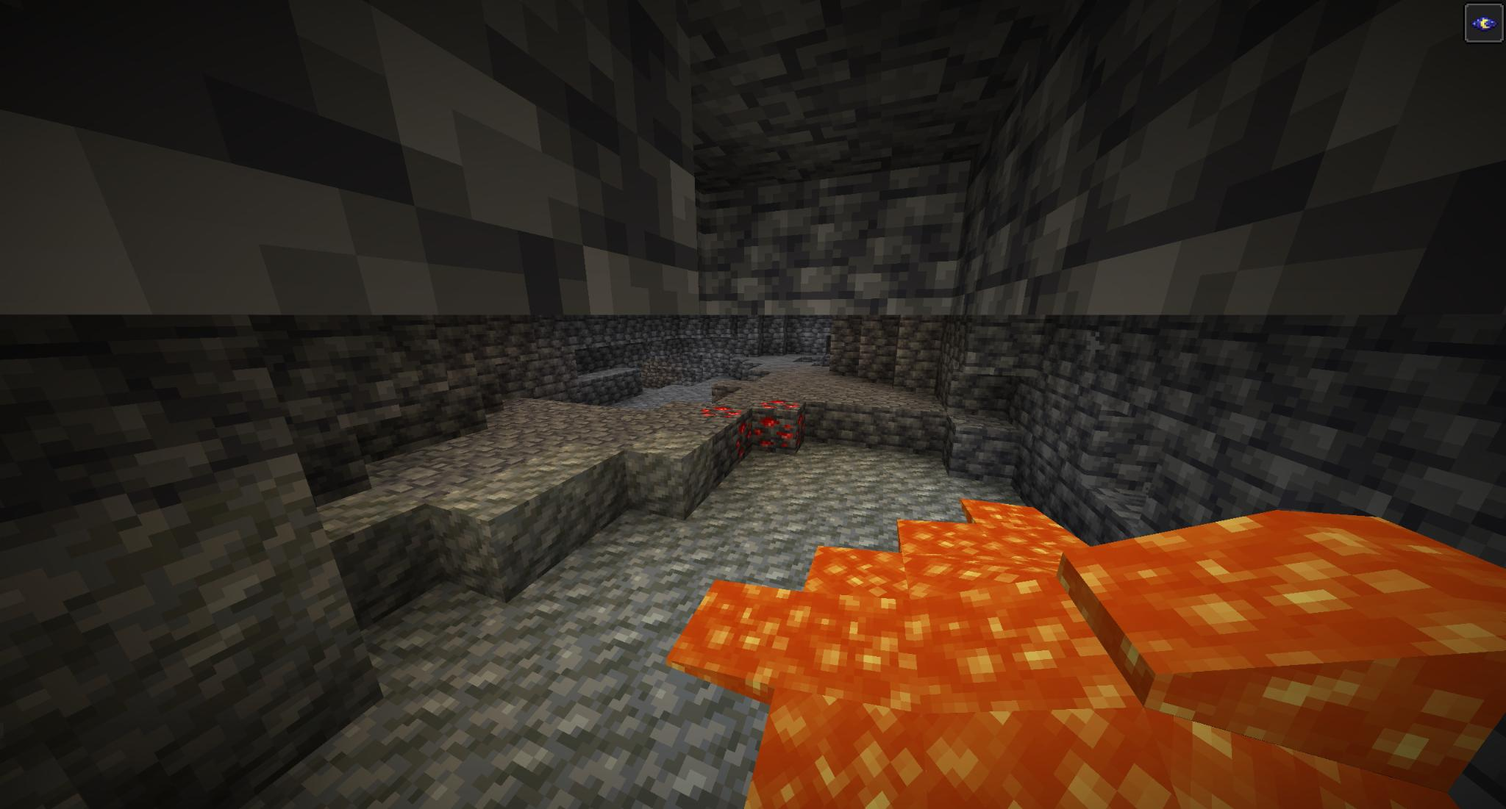redstone ore: (757, 397, 814, 452), (706, 404, 754, 454)
